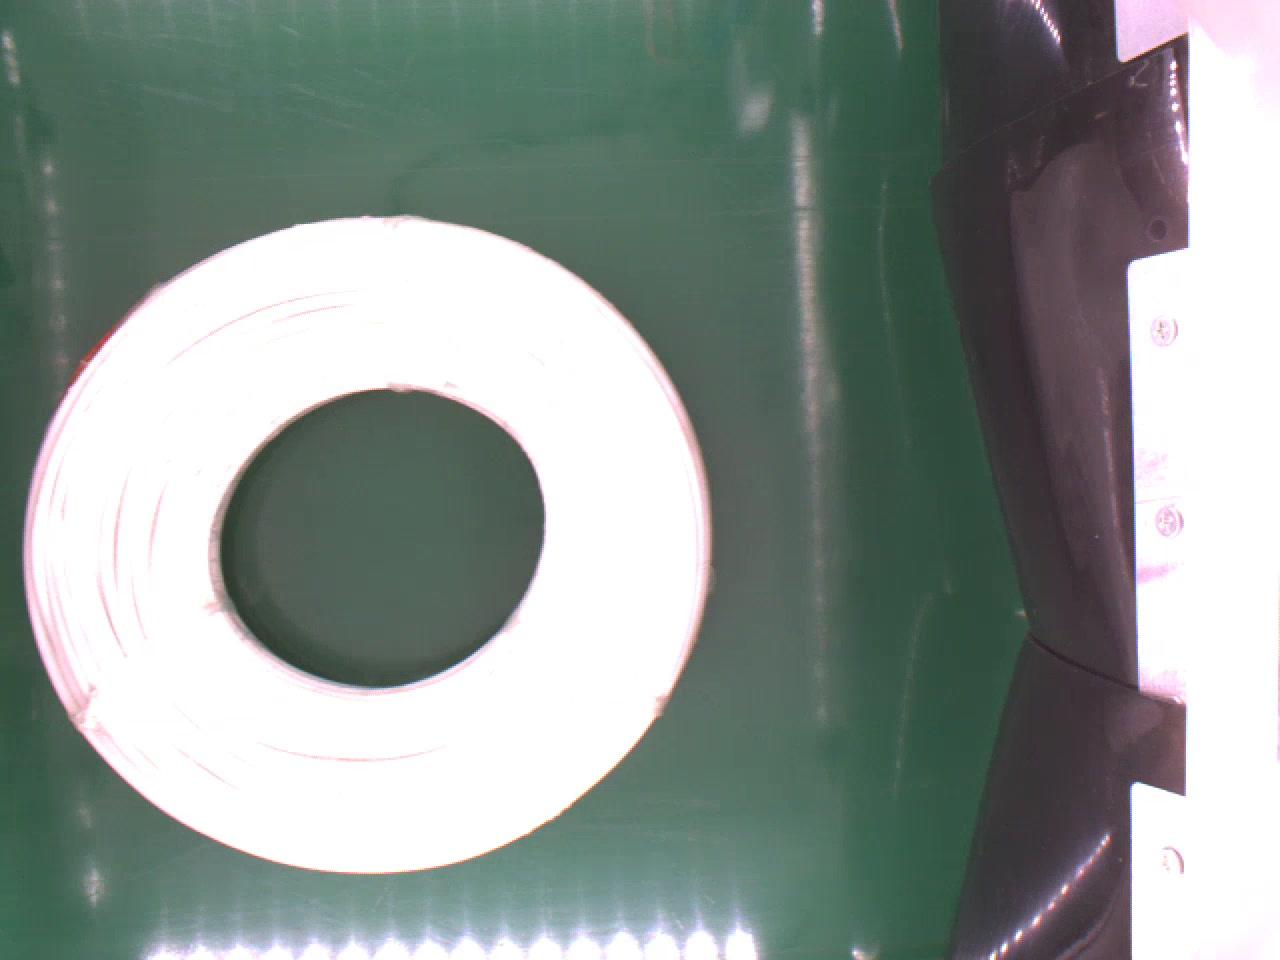white: (17, 205, 719, 868)
